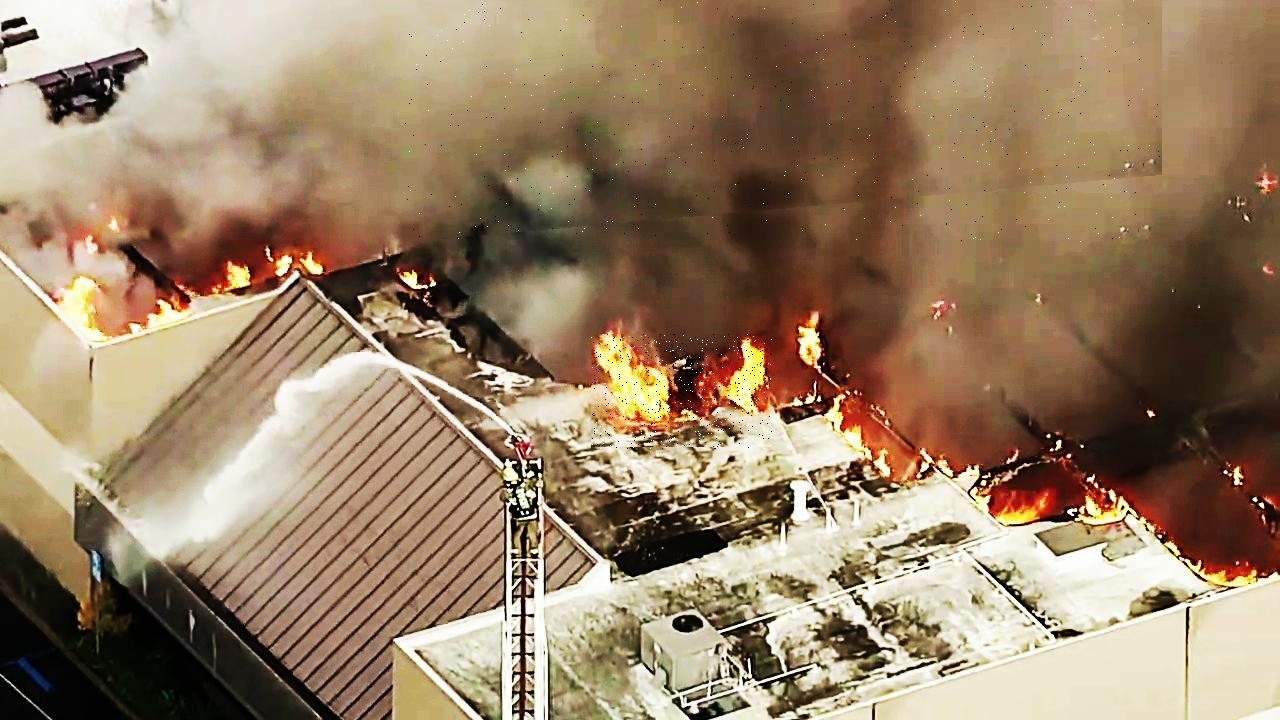fire: (592, 335, 773, 450)
smoke: (402, 0, 1162, 242)
